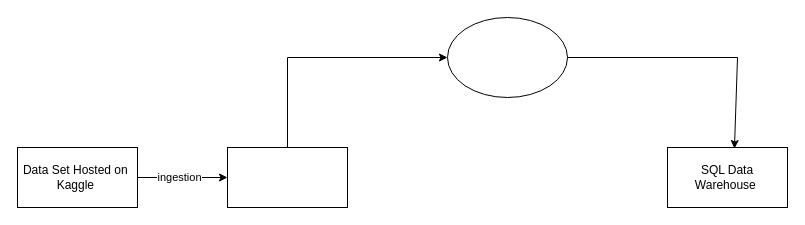
Image size: 805x225. Some labels were removed from this diagram. The centre of each missing label's shape, as x and y in pixels:
"Data Cleaning using apache spark locally" belongs at pixel 507 57.
"Local Storage" belongs at pixel 287 177.
